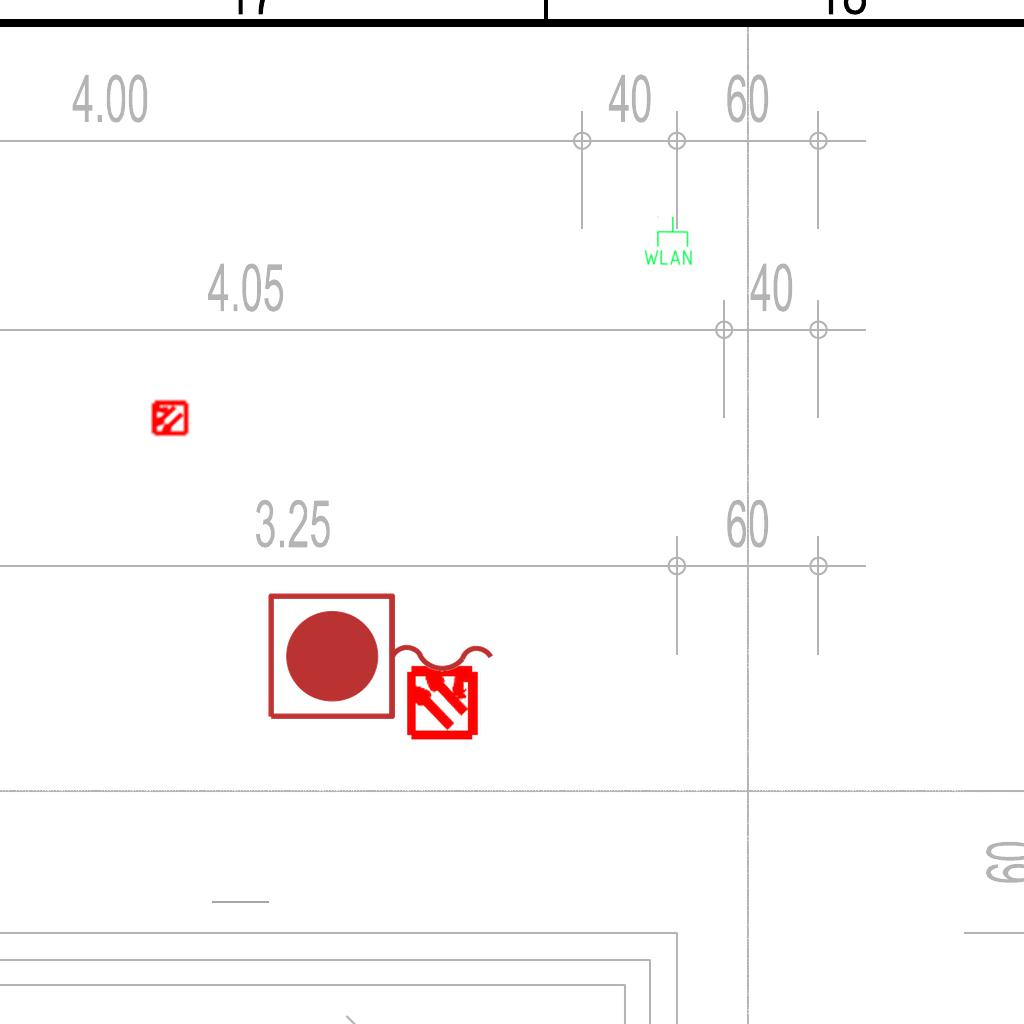OT_Multisensormelder_(Kombination_RMO_WMD): (386, 644, 499, 757), (141, 390, 197, 446)
WLAN: (642, 215, 694, 267)
Zugtaster: (260, 586, 504, 730)
